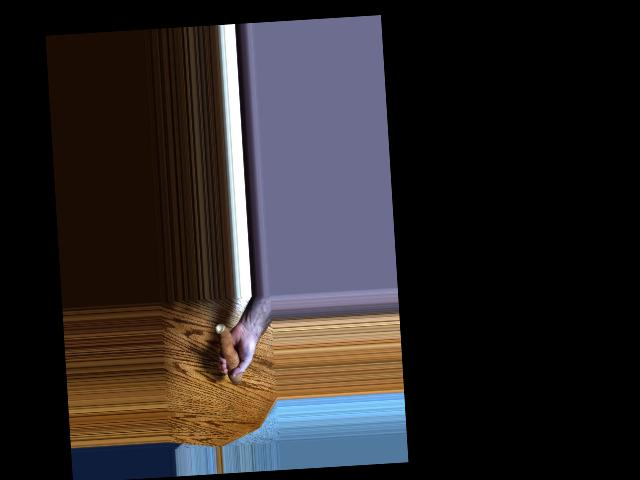sweet_potato: (217, 317, 245, 379)
